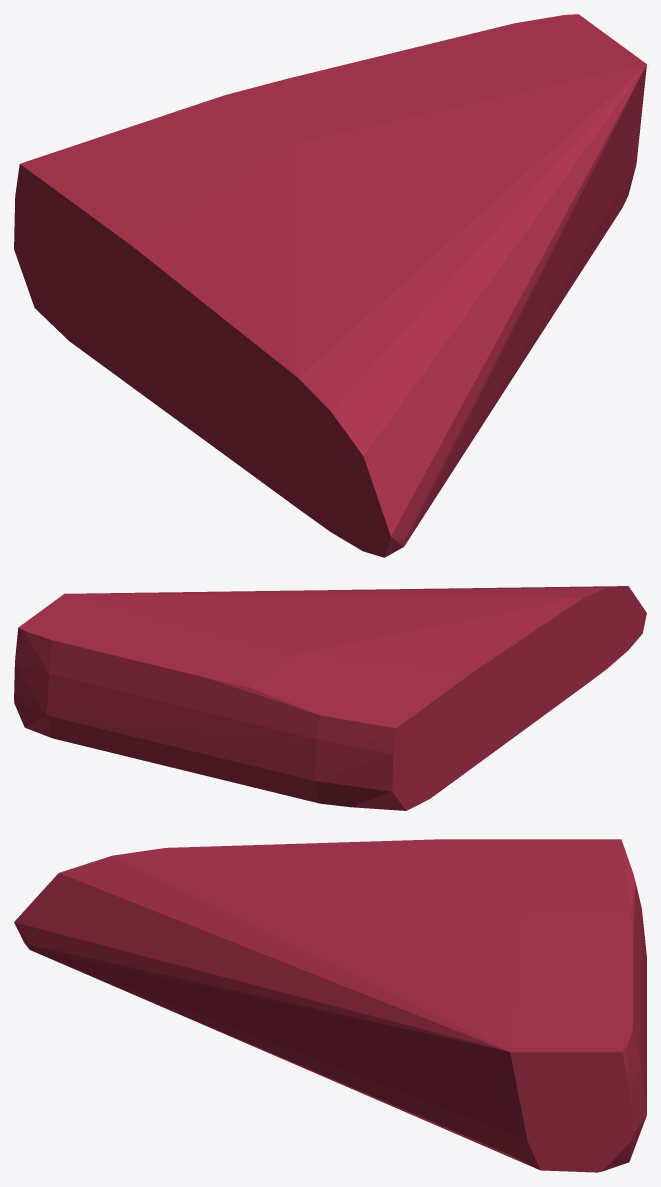
The model's file is left-shoulder-pitch-0_part_58.obj.
The picture shows the model from 3 angles, top to bottom: view 1: azimuth 30°, elevation 25°; view 2: azimuth 150°, elevation 25°; view 3: azimuth 270°, elevation 25°; orthographic projection. The views are drawn at different scales.
Size of the model in its own units: 0.0227 by 0.006 by 0.0271.
